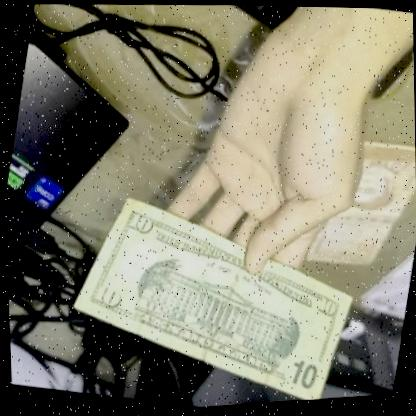ten-back: (51, 168, 367, 416)
